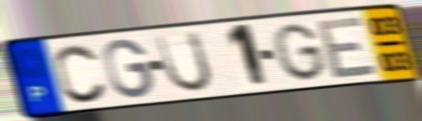1: (225, 22, 271, 91)
C: (52, 42, 110, 105)
E: (315, 13, 381, 81)
G: (270, 21, 329, 83), (101, 37, 156, 101)
U: (153, 29, 215, 95)
